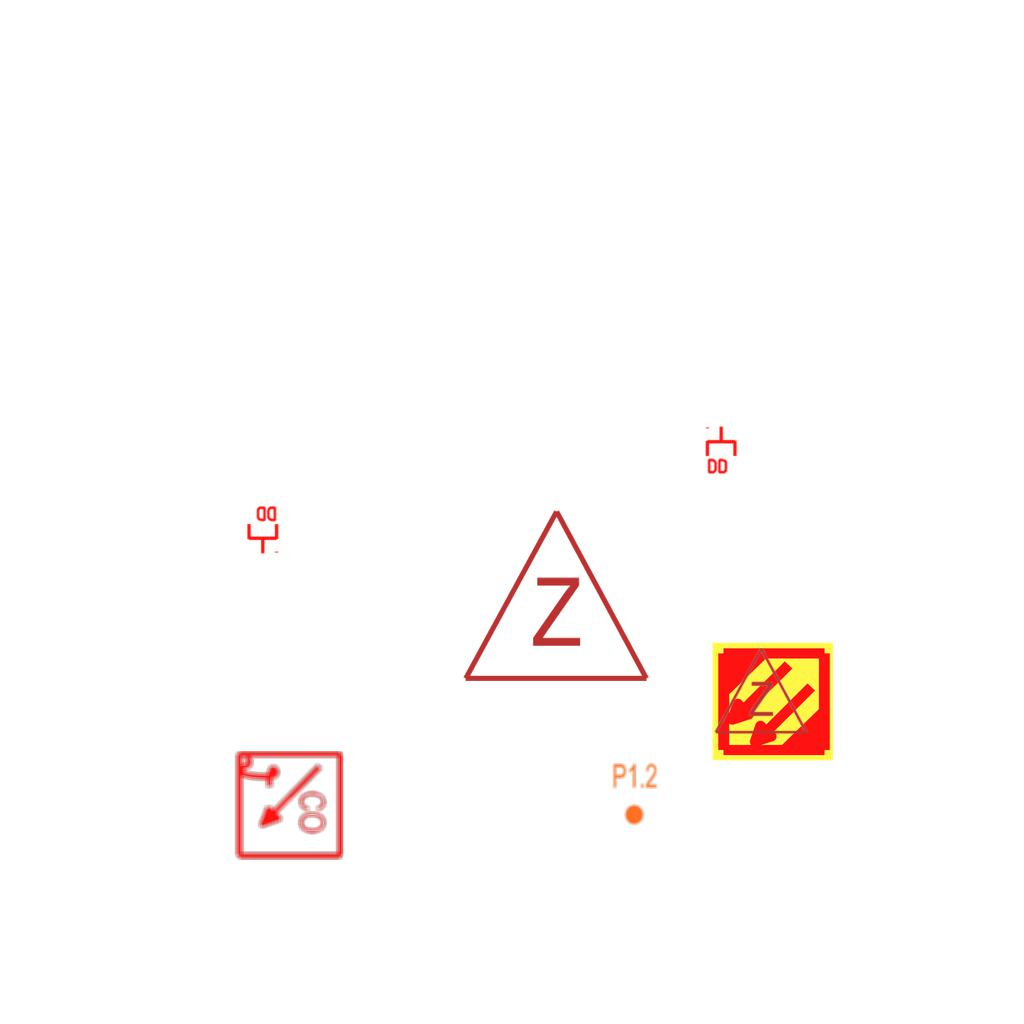ASR_Ansaugrauchmelder: (710, 639, 835, 764)
Datenanschluss_zweifach: (705, 425, 739, 476), (245, 504, 279, 555)
Downlight_LED_Einbauleuchten_Flur: (612, 762, 658, 826)
ROA_Rauchmelder_optisch_mit_Signalgeber_(Sockelsirene): (232, 749, 345, 862)
Zimmersignalleuchte: (456, 496, 652, 696), (711, 641, 809, 741)
